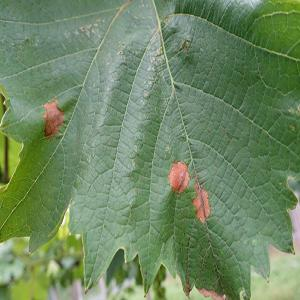Folha: (0, 0, 299, 298)
Fungo: (166, 159, 210, 223), (42, 98, 65, 140), (166, 160, 190, 196), (192, 180, 210, 224), (188, 280, 226, 300), (179, 37, 191, 53)
